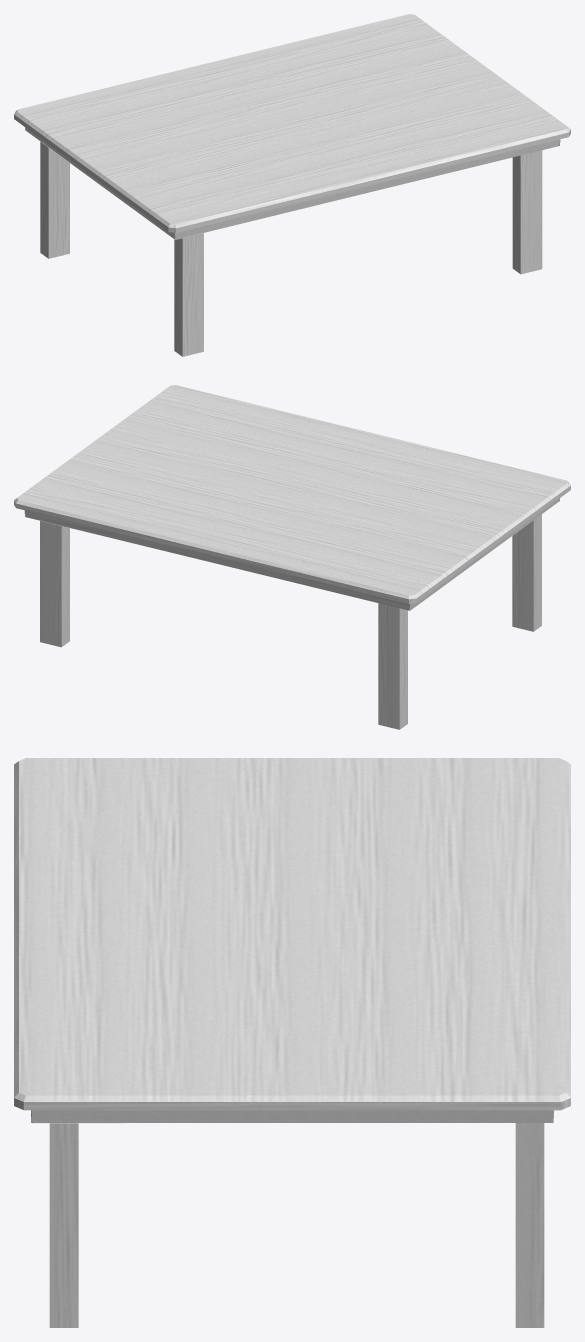
Rendered from Dining_Room_Table_C.FBX.
3 views of the same model, one above another, from view 1: azimuth 30°, elevation 25°; view 2: azimuth 150°, elevation 25°; view 3: azimuth 270°, elevation 25° (orthographic). The views are drawn at different scales.
Parts seen in each view (by area): view 1: Dining_Room_Table; view 2: Dining_Room_Table; view 3: Dining_Room_Table.
Boxes of the visible parts, x1,y1,x2,y2 form: Dining_Room_Table: [14, 14, 570, 356]; Dining_Room_Table: [14, 385, 570, 729]; Dining_Room_Table: [14, 758, 570, 1327].
Bounding box in the file's own units: 450 × 153 × 310.
